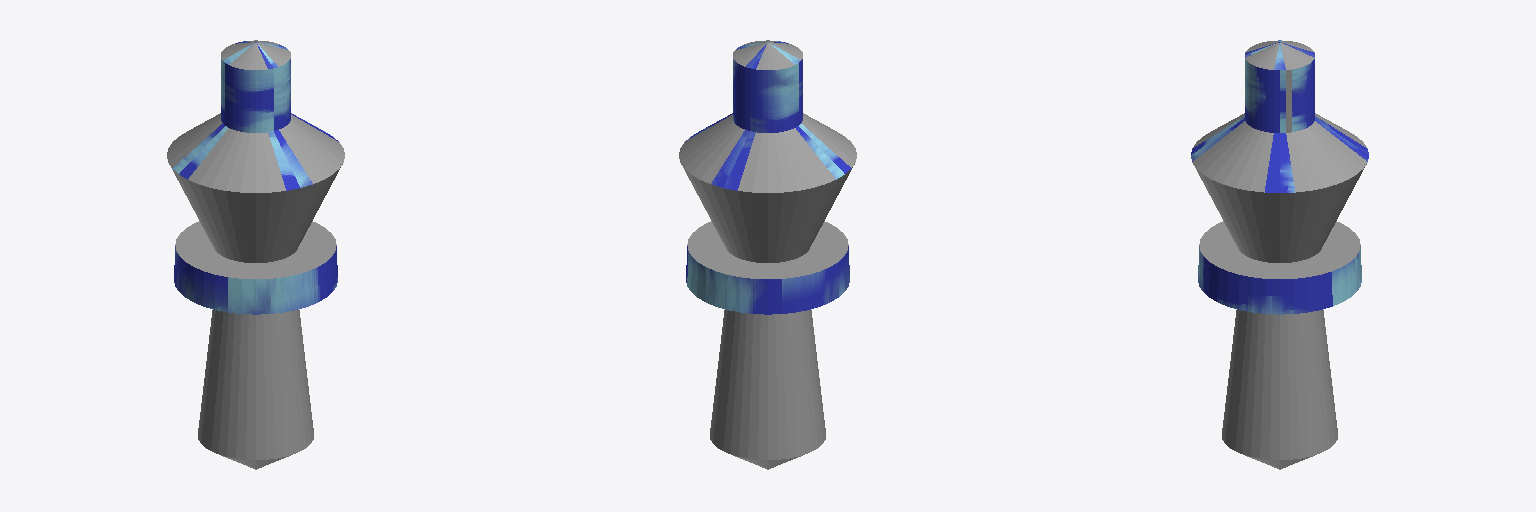
The picture shows the model from 3 angles: view 1: azimuth 30°, elevation 25°; view 2: azimuth 150°, elevation 25°; view 3: azimuth 270°, elevation 25°; orthographic projection.
Visible parts, largest first — view 1: pylon_Circle; view 2: pylon_Circle; view 3: pylon_Circle.
Boxes of the visible parts, x1,y1,x2,y2 form: pylon_Circle: [167, 40, 344, 469]; pylon_Circle: [679, 40, 856, 469]; pylon_Circle: [1191, 40, 1368, 469].
Size of the model in its own units: 3.62 by 9.57 by 3.62.
2 materials, 1 textured.